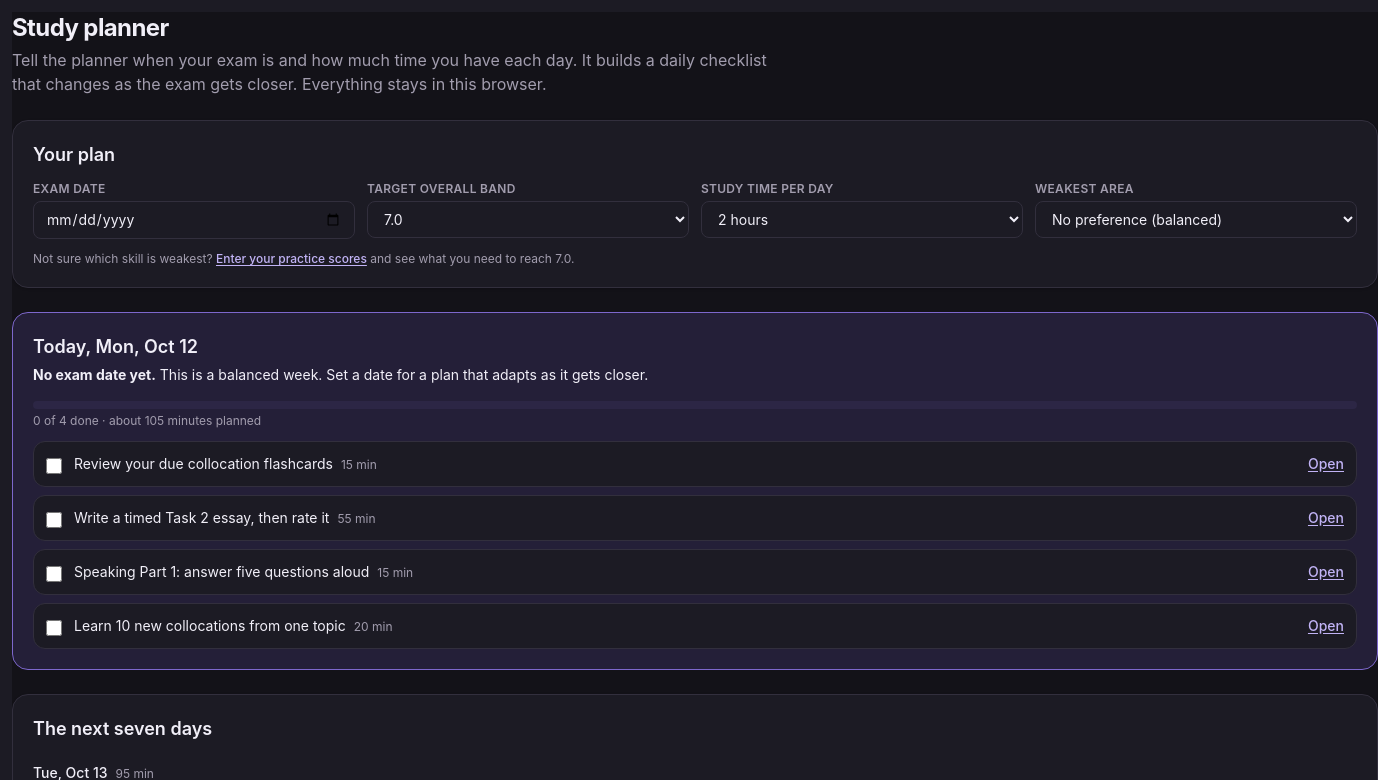
Test: StudyPlanner › puts the chosen weak area first and links tasks to the right tools
The image size is (1378, 780).
Select "Speaking" in the dropdown labelled "Weakest area" at (1196, 220), box [1035,201,1357,238]
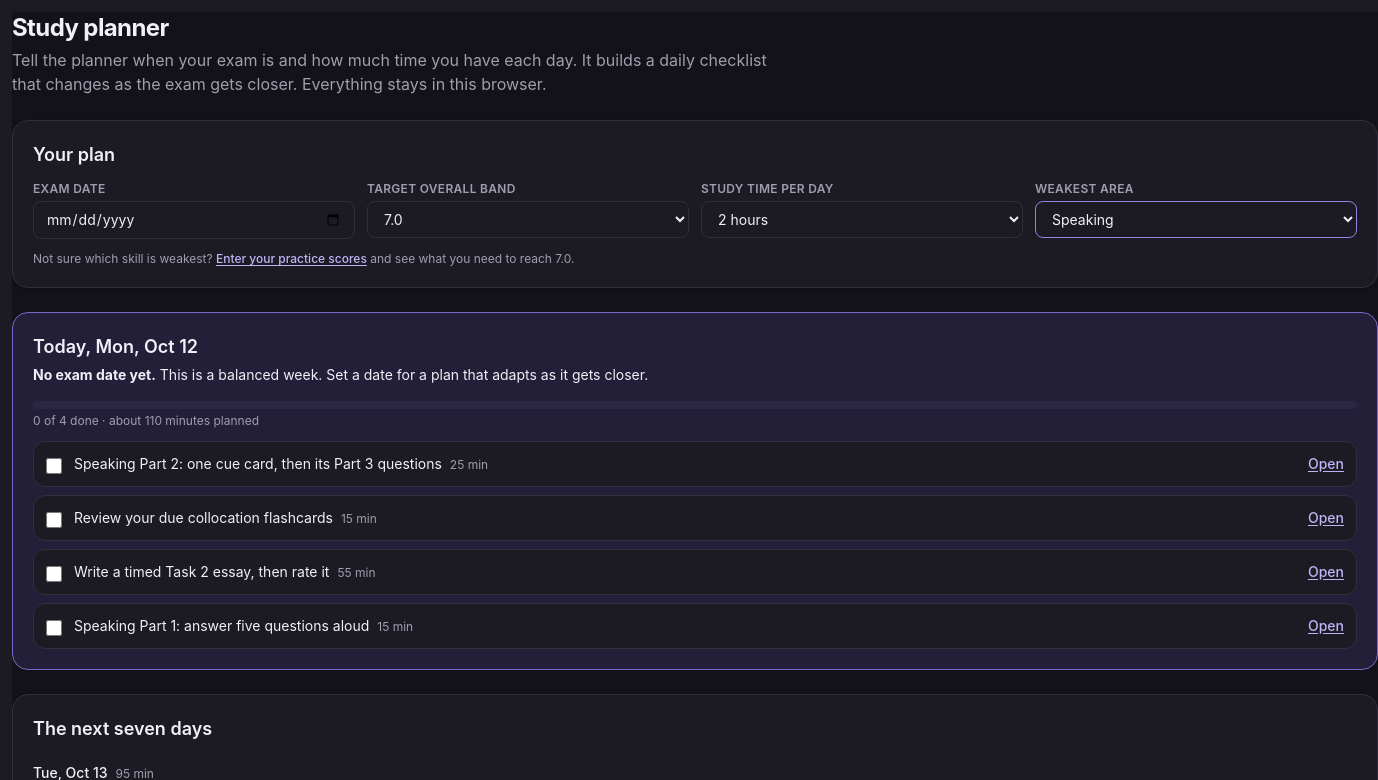
Result: the 1st list item shows "Speaking Part 2" at [74,455,442,472]
